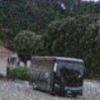buses: (30, 56, 87, 99)
